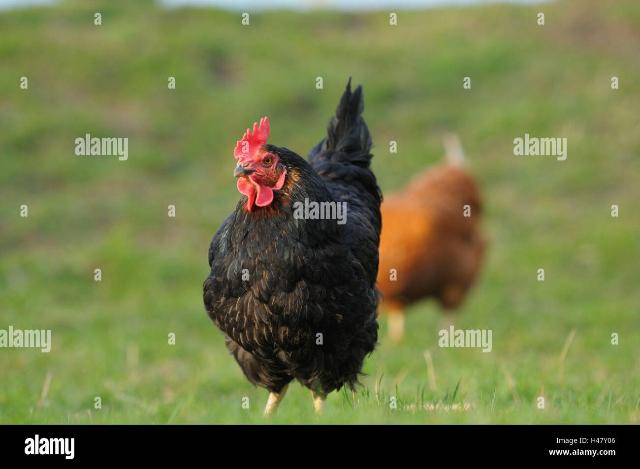Chicken: (202, 72, 385, 421), (377, 130, 492, 346)
